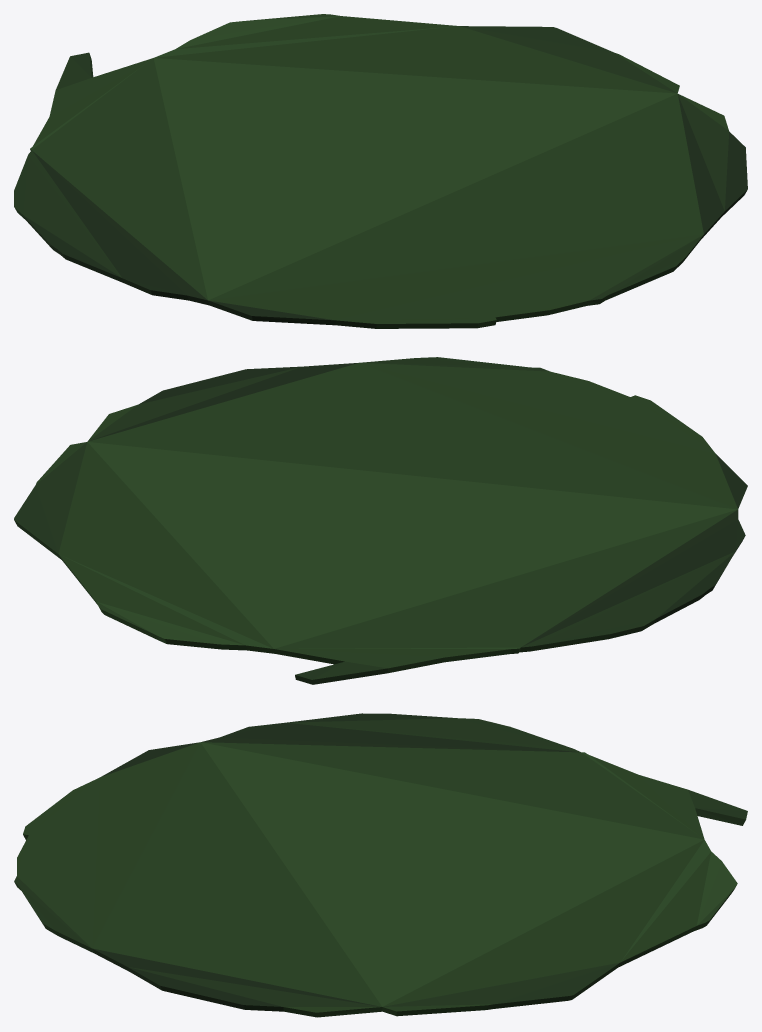
File: island_grass_base.glb
3 renders of one model, top to bottom at view 1: azimuth 30°, elevation 25°; view 2: azimuth 150°, elevation 25°; view 3: azimuth 270°, elevation 25°, orthographic. The views are drawn at different scales.
Parts seen in each view (by area): view 1: IslandGrassBase; view 2: IslandGrassBase; view 3: IslandGrassBase.
Boxes of the visible parts, box(x1,y1,x2,y2) form: IslandGrassBase: box(14, 14, 747, 328); IslandGrassBase: box(14, 357, 747, 684); IslandGrassBase: box(14, 713, 747, 1017).
Size of the model in its own units: 62.41 by 0.6 by 64.69.
